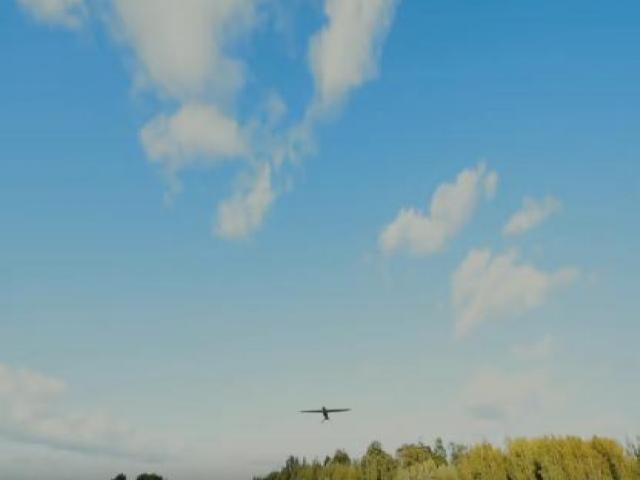uav: (298, 401, 350, 424)
